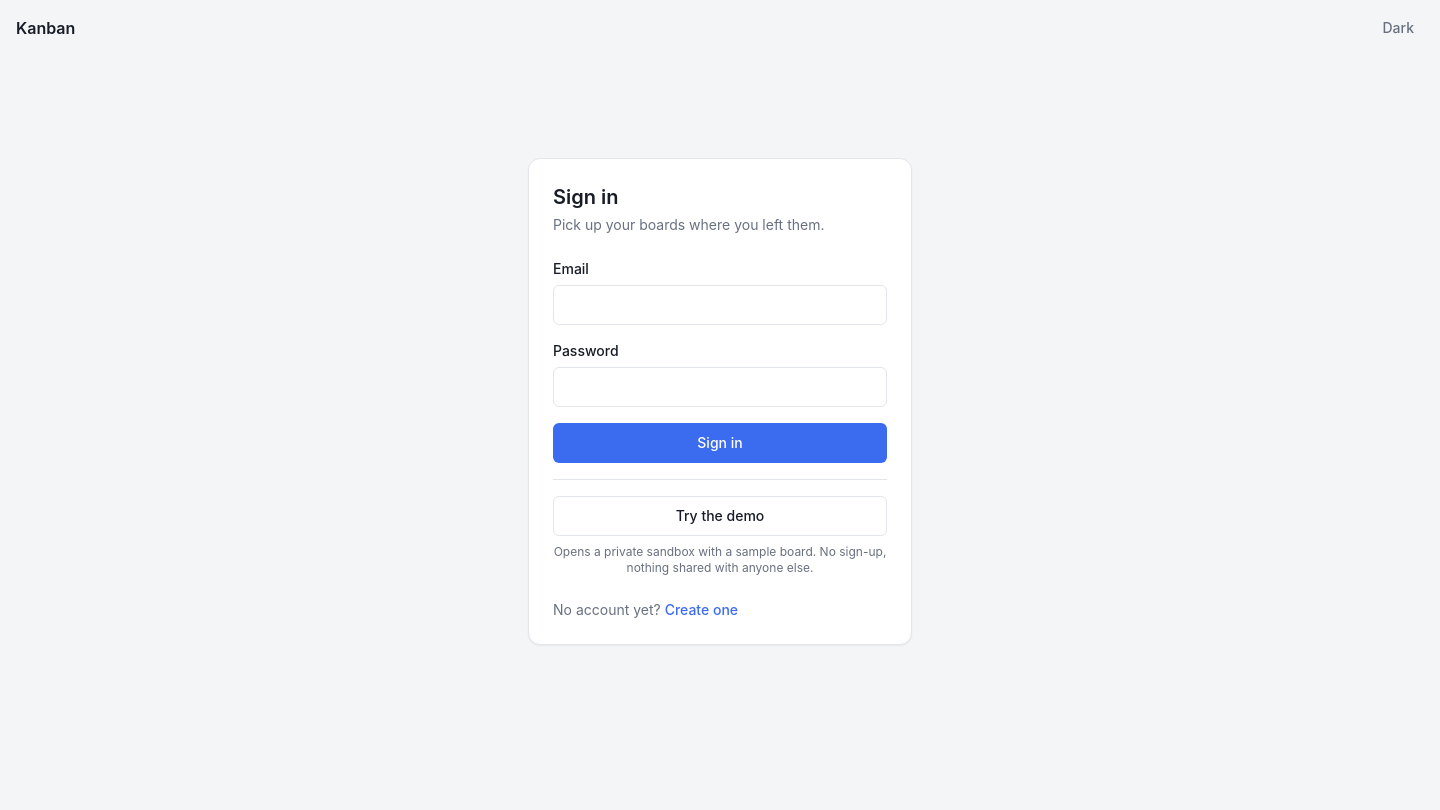
Test: LoginPage › refuses to submit an empty password
The image size is (1440, 810).
Type "grace@example.com" into the field labelled "Email".
click(720, 304); type("grace@example.com")  # box [553,284,887,324]
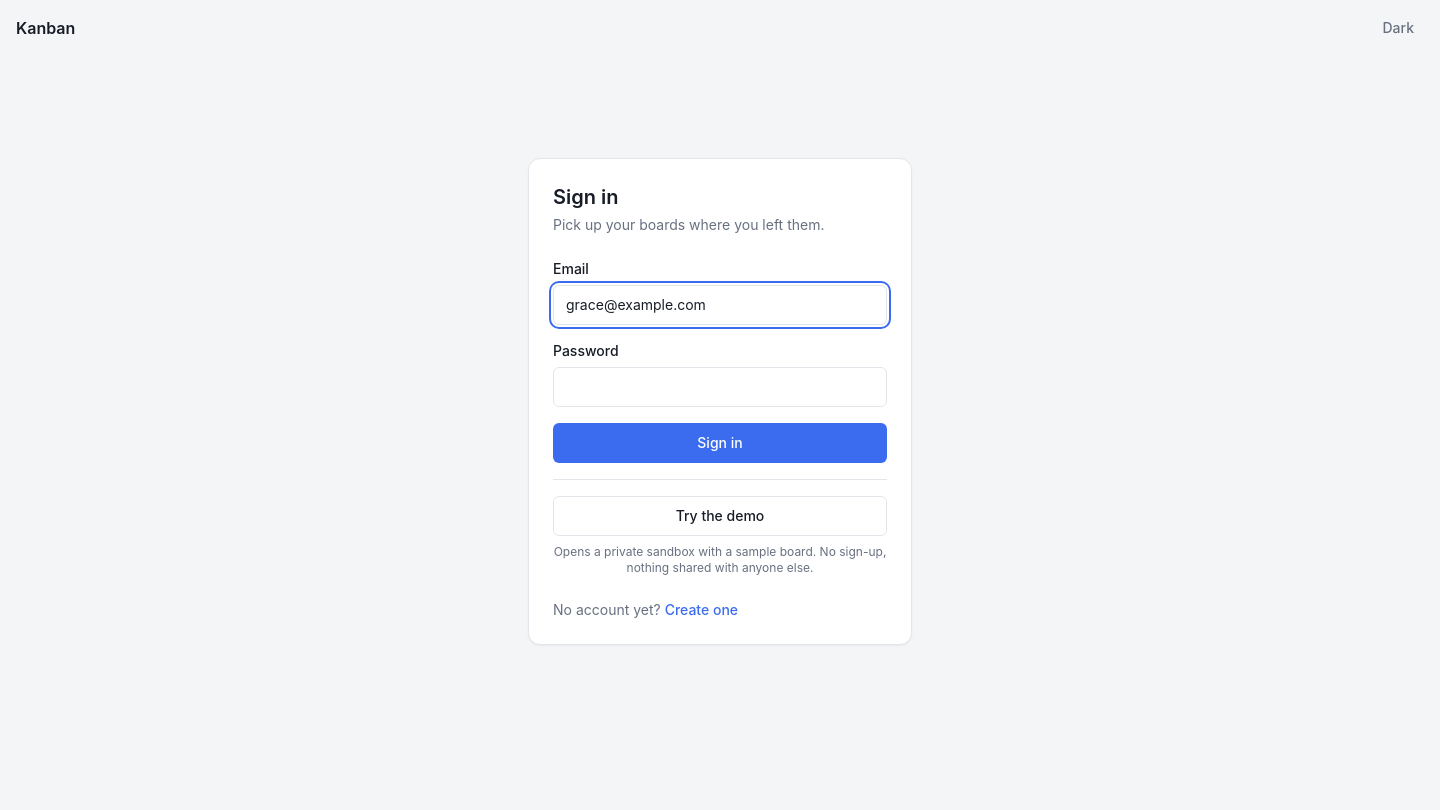
Click the button "Sign in".
click(720, 442)  # box [553,422,887,462]
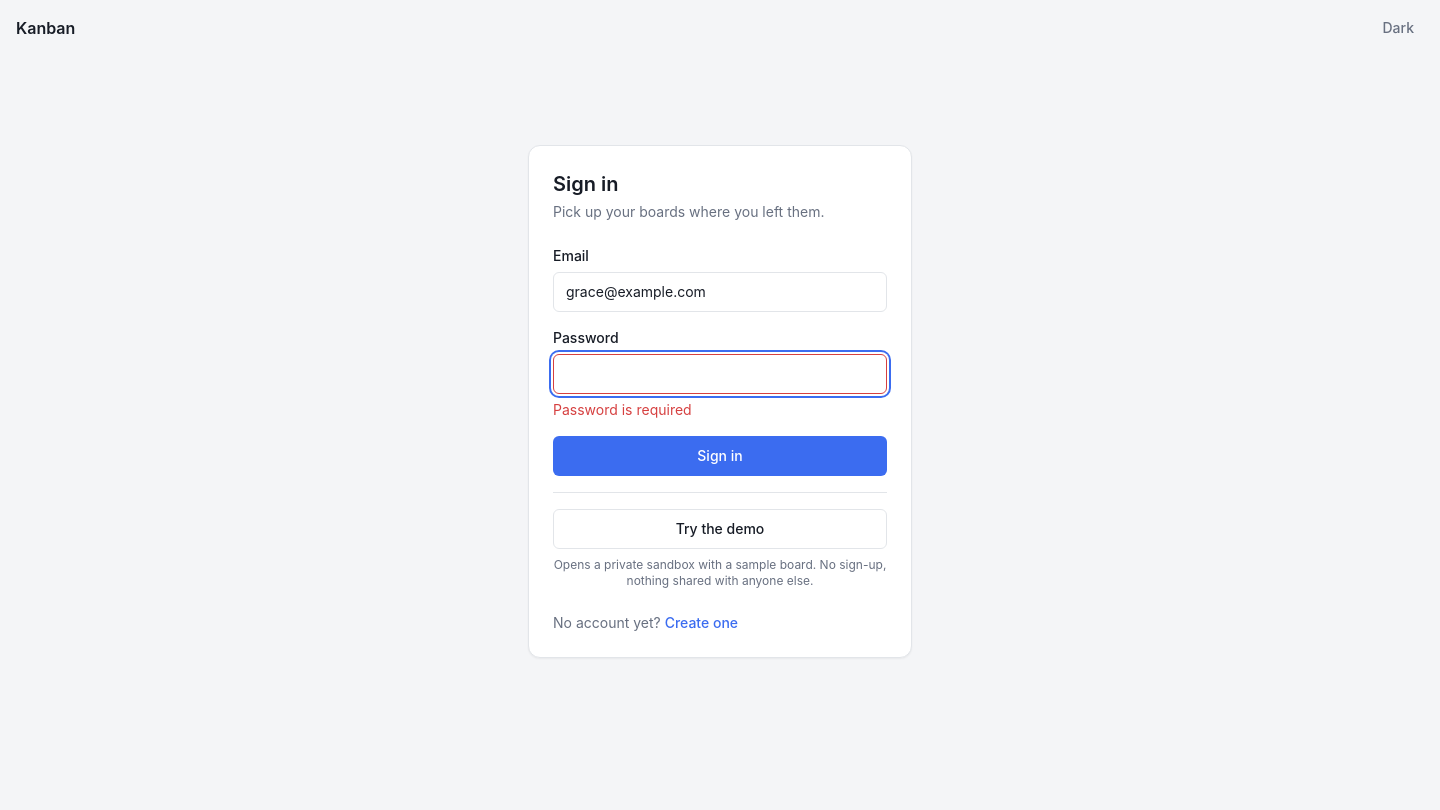
Check: the message reads "Password is required", box [553,400,692,418]
